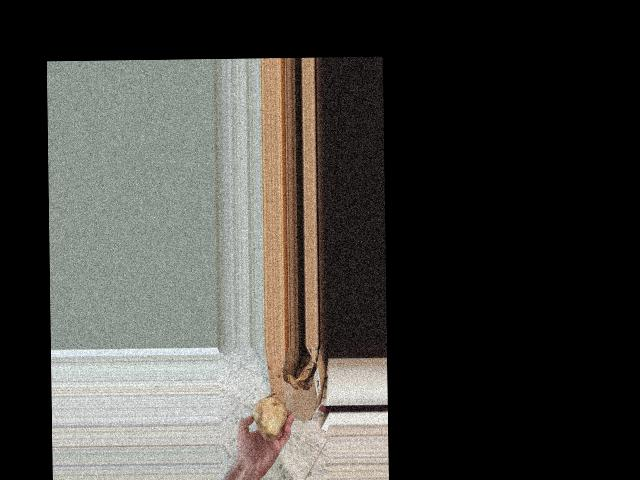onion: (250, 394, 290, 443)
